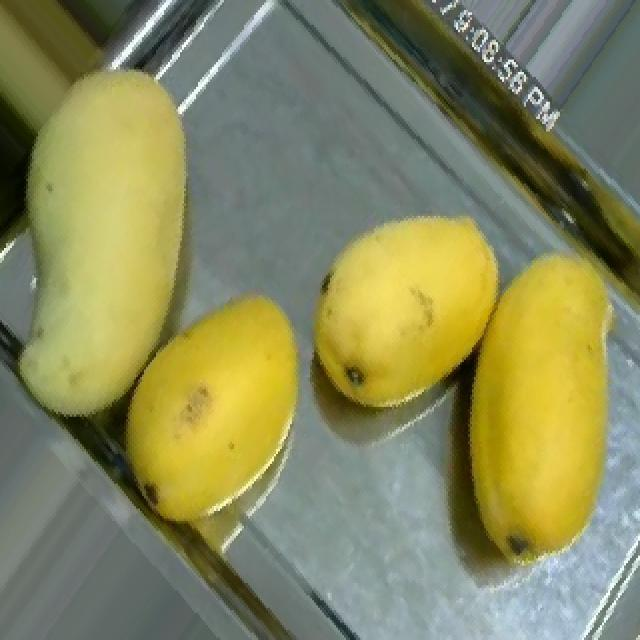Mango: (23, 70, 190, 420), (468, 252, 611, 568), (124, 294, 300, 525), (316, 214, 497, 409)
